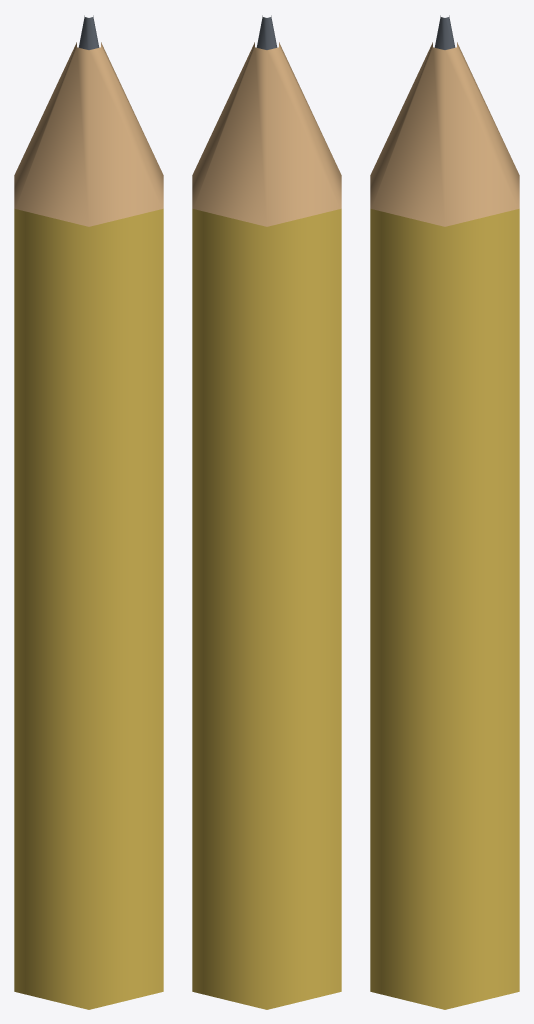
Rendered from graphite-pencil.glb.
3 views of the same model, side by side, from view 1: azimuth 30°, elevation 25°; view 2: azimuth 150°, elevation 25°; view 3: azimuth 270°, elevation 25° (orthographic).
Parts seen in each view (by area): view 1: Mina de grafito-yellow, Mina de grafito-wood, Mina de grafito-graphite; view 2: Mina de grafito-yellow, Mina de grafito-wood, Mina de grafito-graphite; view 3: Mina de grafito-yellow, Mina de grafito-wood, Mina de grafito-graphite.
Part boxes in pixels (box(x1,y1,x2,y2)): Mina de grafito-yellow: box(14, 208, 163, 1009); Mina de grafito-wood: box(14, 42, 163, 226); Mina de grafito-graphite: box(78, 15, 99, 49); Mina de grafito-yellow: box(192, 208, 341, 1009); Mina de grafito-wood: box(192, 42, 341, 226); Mina de grafito-graphite: box(256, 15, 277, 49); Mina de grafito-yellow: box(370, 208, 519, 1009); Mina de grafito-wood: box(370, 42, 519, 226); Mina de grafito-graphite: box(434, 15, 455, 49).
Size of the model in its own units: 0.44 by 2.69 by 0.3811.
